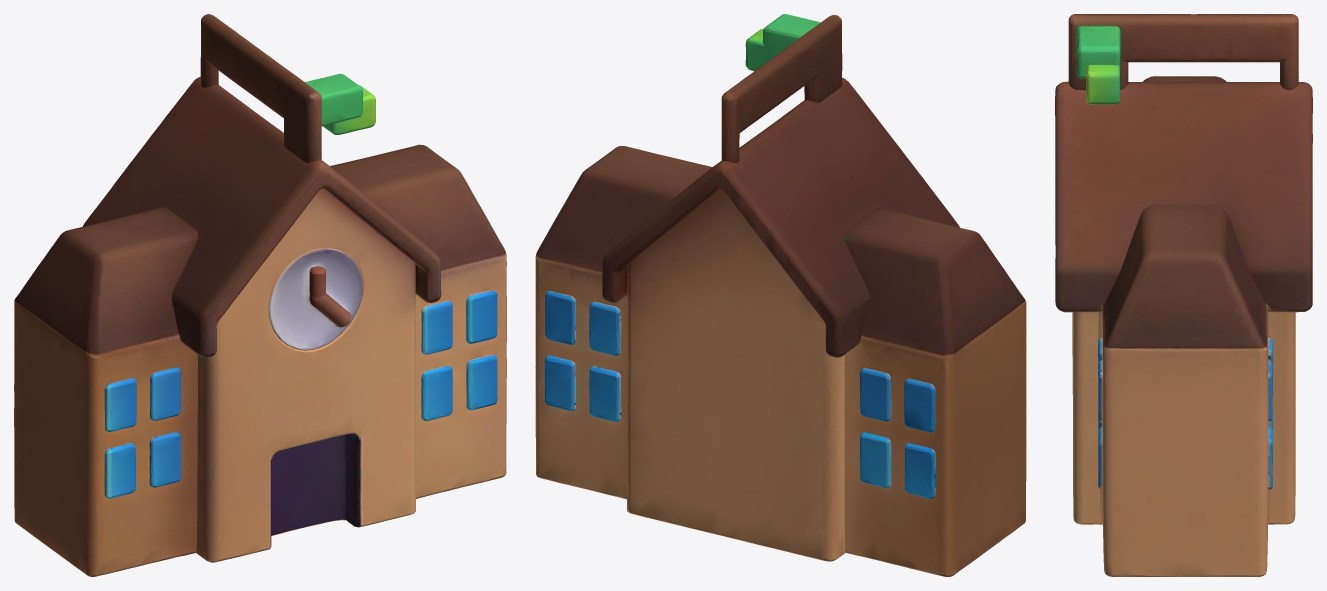
Rendered from school.glb.
3 views of the same model, side by side, from view 1: azimuth 30°, elevation 25°; view 2: azimuth 150°, elevation 25°; view 3: azimuth 270°, elevation 25° (orthographic). The views are drawn at different scales.
Parts seen in each view (by area): view 1: model; view 2: model; view 3: model.
Boxes of the visible parts, left/top/right/bottom form: model: left=14, top=14, right=506, bottom=576; model: left=535, top=14, right=1026, bottom=576; model: left=1055, top=14, right=1312, bottom=576.
Bounding box in the file's own units: 0.9817 × 1 × 0.5101.
Materials: 1 (1 with a texture image).
